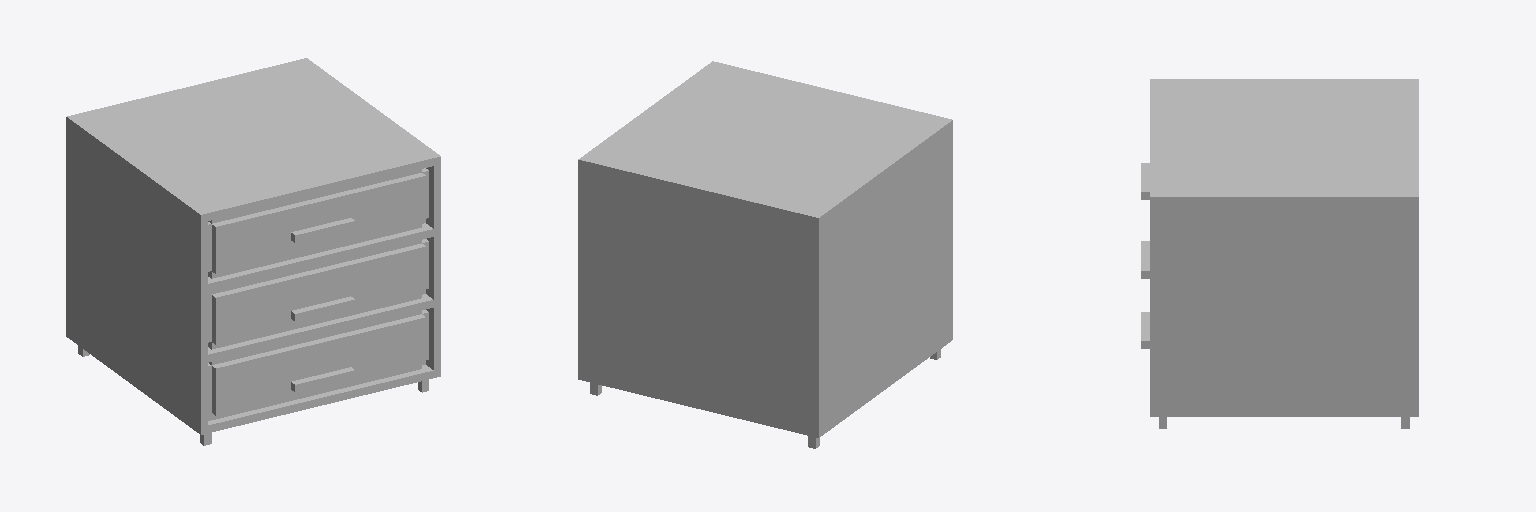
The model's file is drawer_V2.obj.
The picture shows the model from 3 angles: view 1: azimuth 30°, elevation 25°; view 2: azimuth 150°, elevation 25°; view 3: azimuth 270°, elevation 25°; orthographic projection.
Parts seen in each view (by area): view 1: drawer_V2; view 2: drawer_V2; view 3: drawer_V2.
Boxes of the visible parts, <box> form: drawer_V2: <box>66,58,440,445</box>; drawer_V2: <box>578,61,952,448</box>; drawer_V2: <box>1141,79,1418,428</box>.
Size of the model in its own units: 32 by 30 by 32.